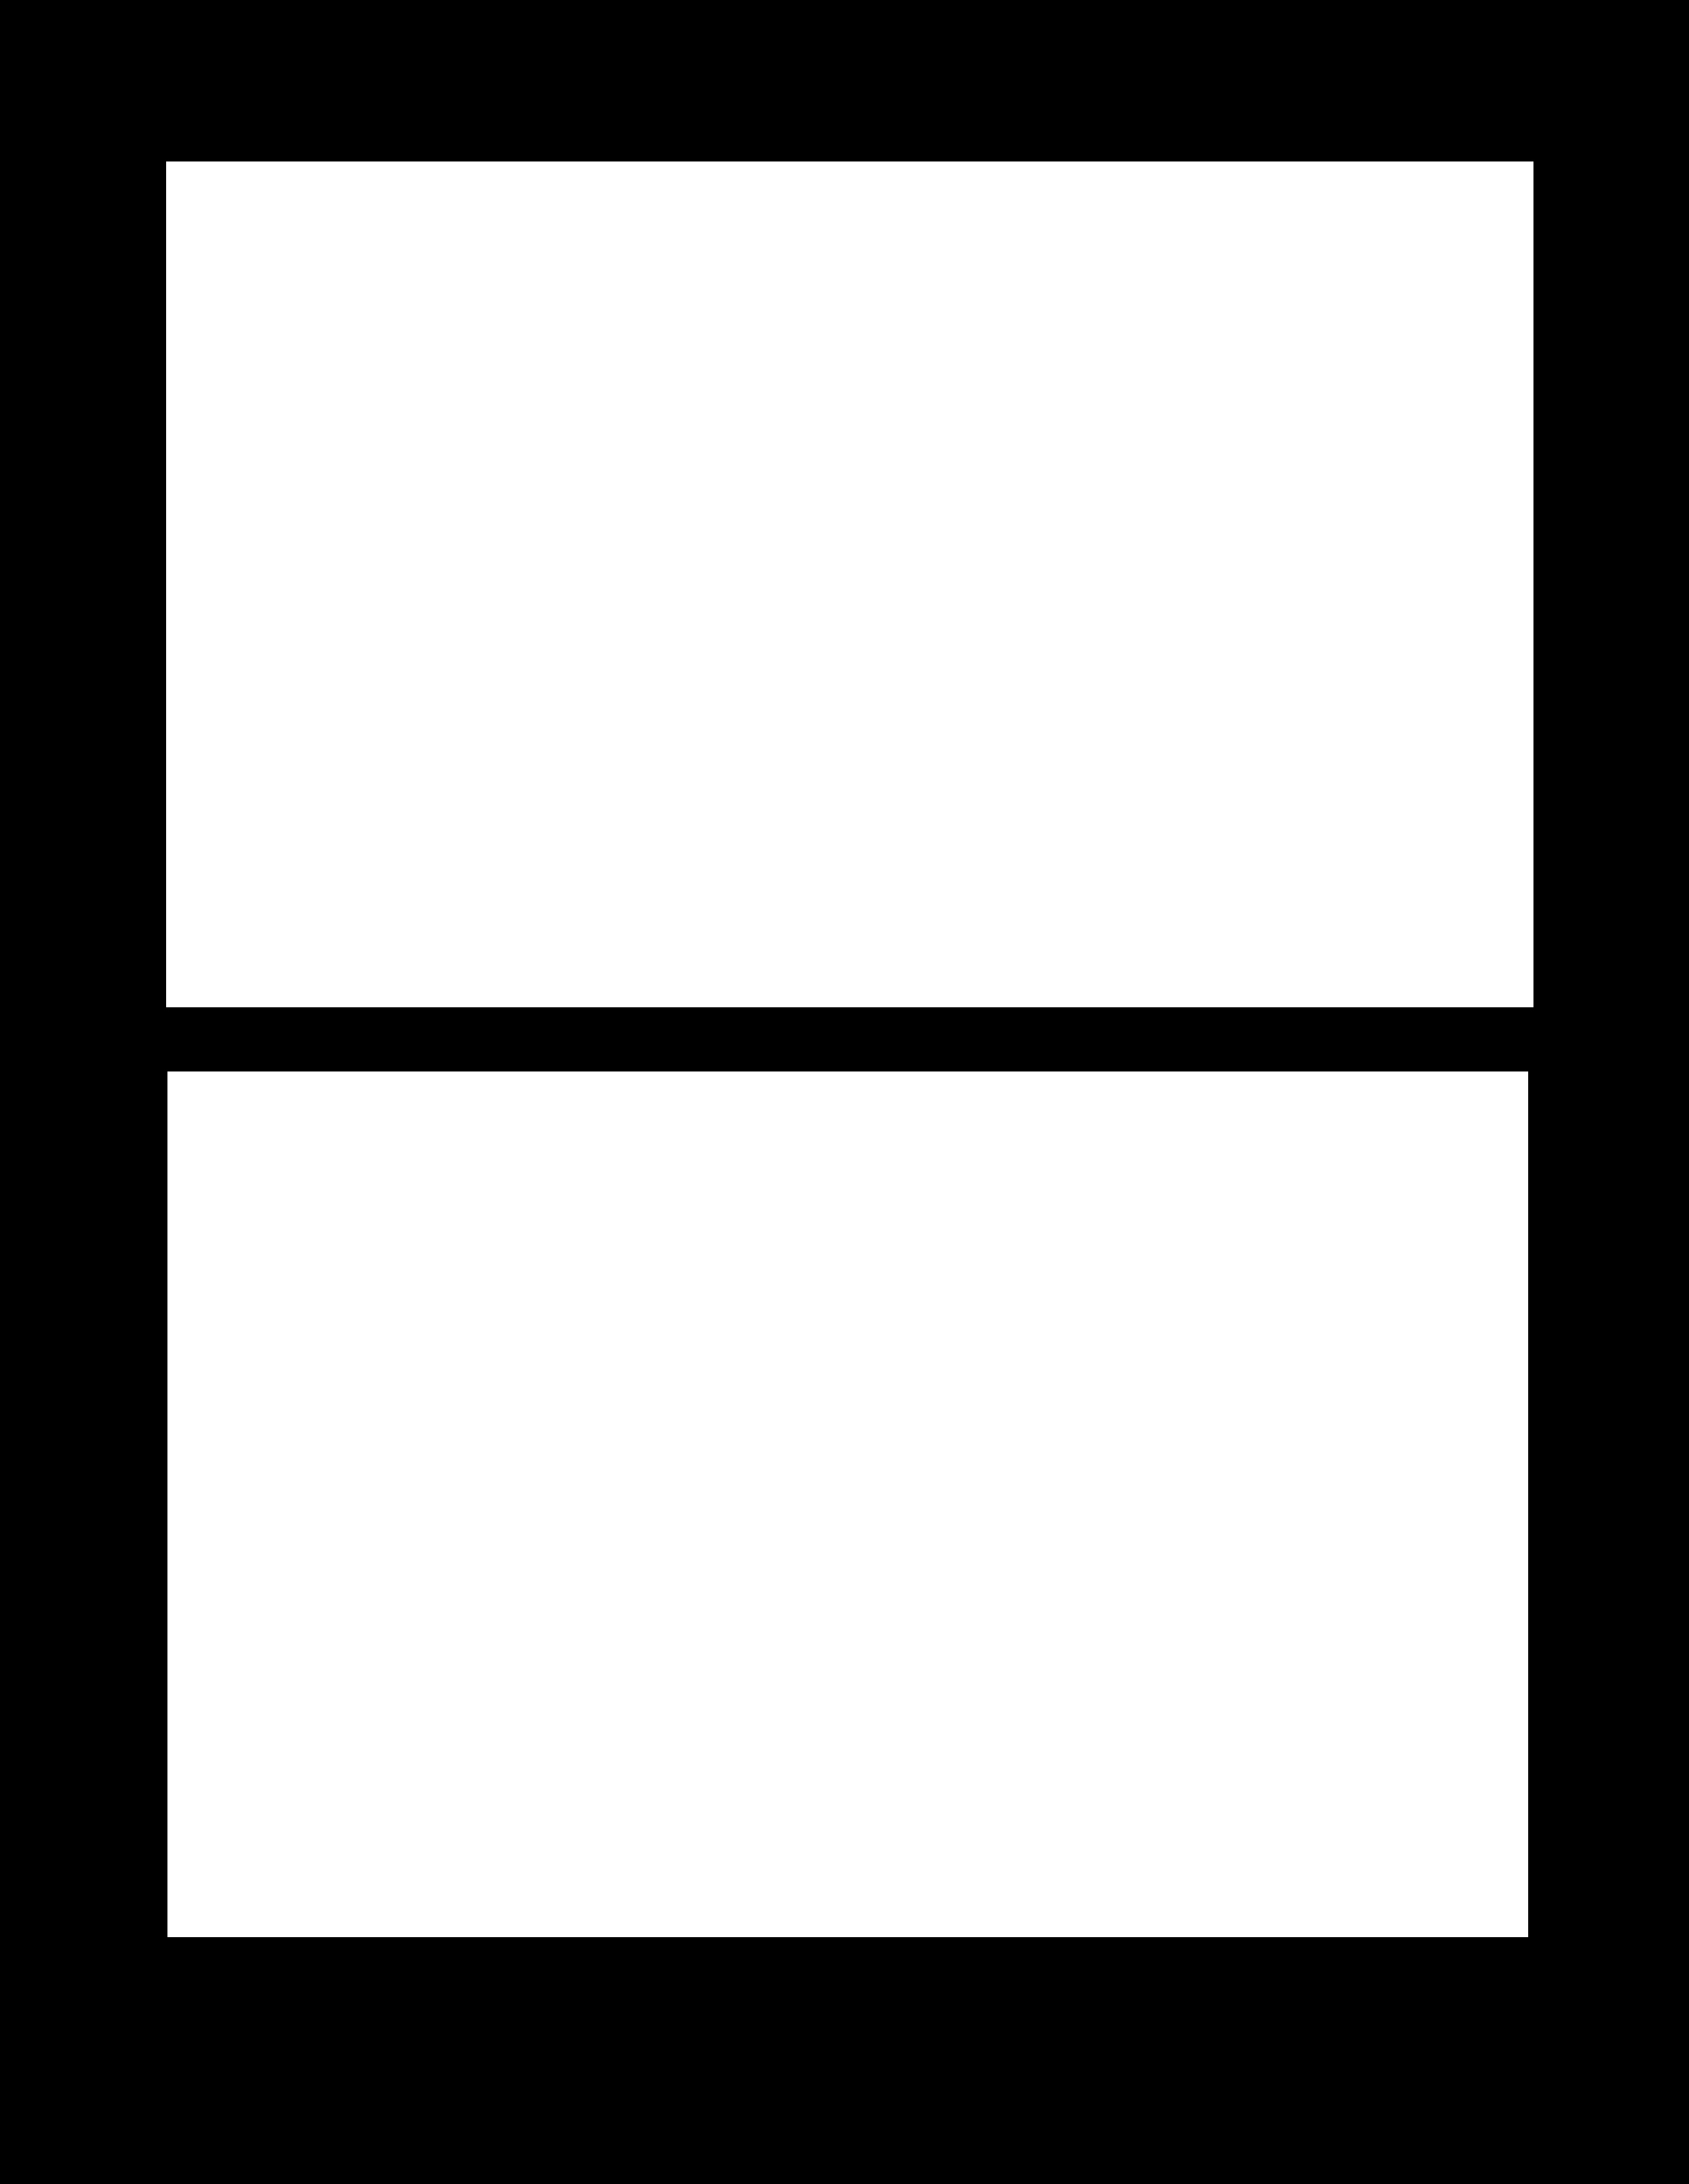table: (167, 1071, 1528, 1936), (167, 161, 1533, 1007)
